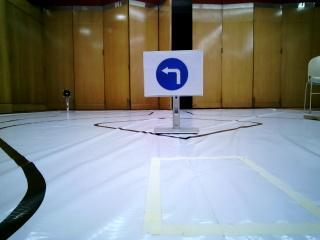left: (149, 53, 195, 96)
